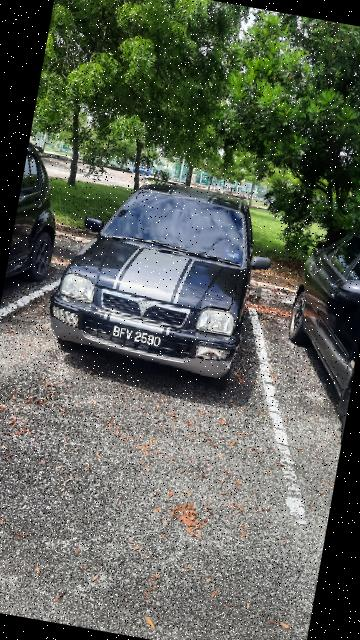License_Plate: (108, 322, 171, 355)
car: (41, 165, 284, 397)
